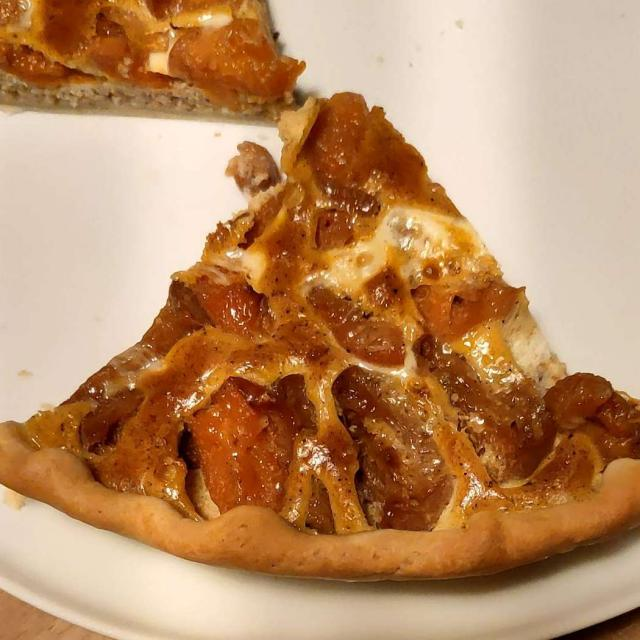pie-apricot-baked-with-cake-dough: (16, 103, 633, 571)
